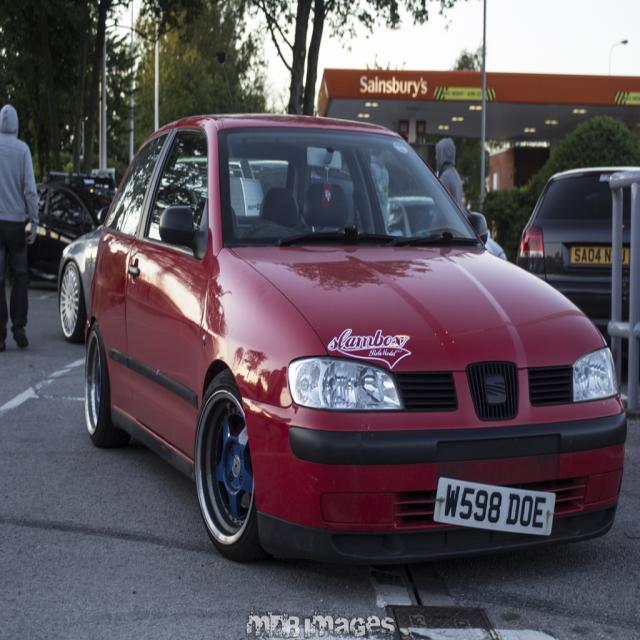car: (83, 103, 627, 567)
